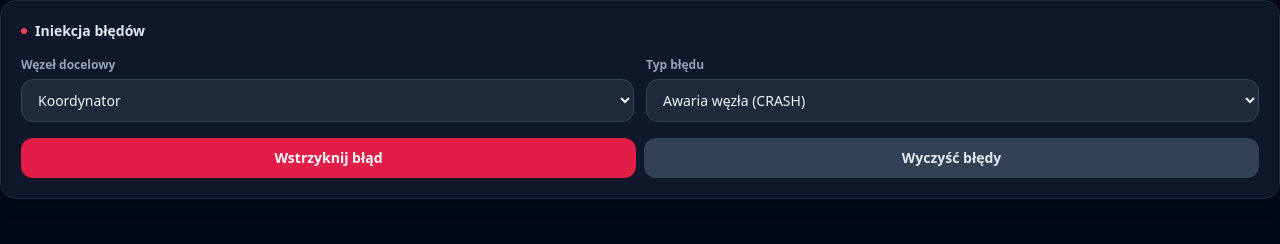
Test: FaultInjectionPanel › injectFault_givenSuccess_displaysInjectedMessage
The image size is (1280, 244).
Step 1. Click the button "Wstrzyknij błąd" → (328, 158), box [21, 138, 636, 178]
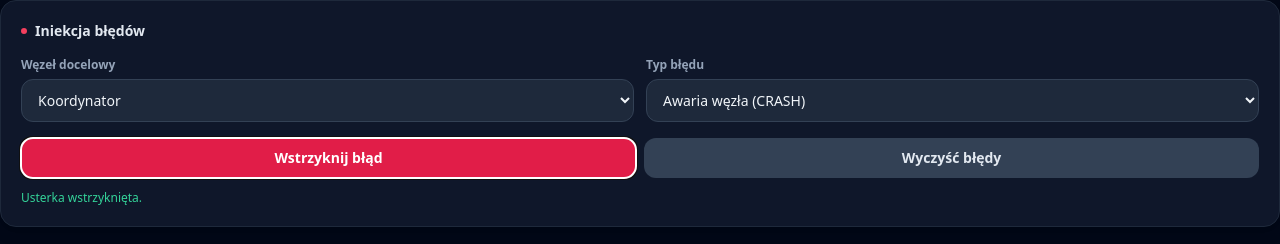
Expected: the text "Usterka wstrzyknięta." is shown, [21, 189, 142, 206]
